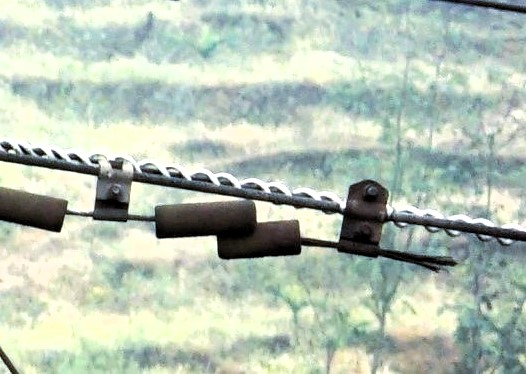Damage of shockproof hammer: (208, 167, 463, 280)
